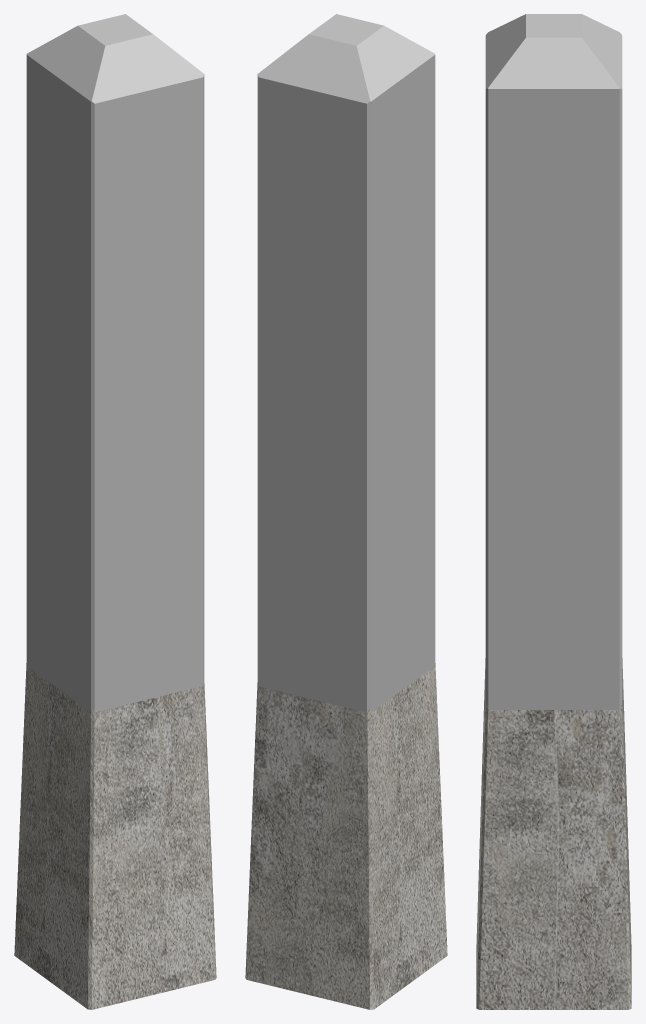
Rendered from SM_HBJ_PillarD.fbx.
3 renders of one model, left to right at view 1: azimuth 30°, elevation 25°; view 2: azimuth 150°, elevation 25°; view 3: azimuth 270°, elevation 25°, orthographic.
Visible parts, largest first — view 1: SM_HBJ_PillarD_ConvexHulls, SM_HBJ_PillarD; view 2: SM_HBJ_PillarD_ConvexHulls, SM_HBJ_PillarD; view 3: SM_HBJ_PillarD_ConvexHulls, SM_HBJ_PillarD.
Part boxes in pixels (x1,y1,x2,y2): SM_HBJ_PillarD_ConvexHulls: (26,14,204,712); SM_HBJ_PillarD: (14,663,216,1009); SM_HBJ_PillarD_ConvexHulls: (257,14,435,712); SM_HBJ_PillarD: (245,663,447,1009); SM_HBJ_PillarD_ConvexHulls: (485,14,622,709); SM_HBJ_PillarD: (476,658,631,1009).
Size of the model in its own units: 57.04 by 58.59 by 397.
Materials: 2 (1 with a texture image).
